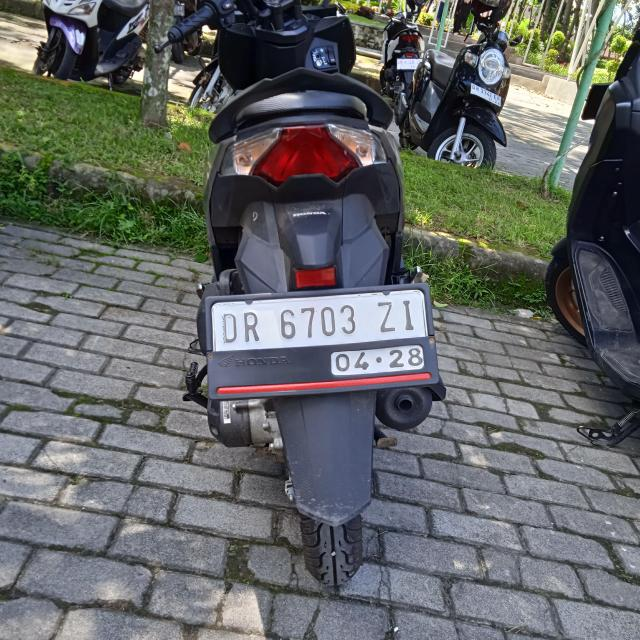plate: (213, 290, 431, 385), (469, 82, 502, 107)
